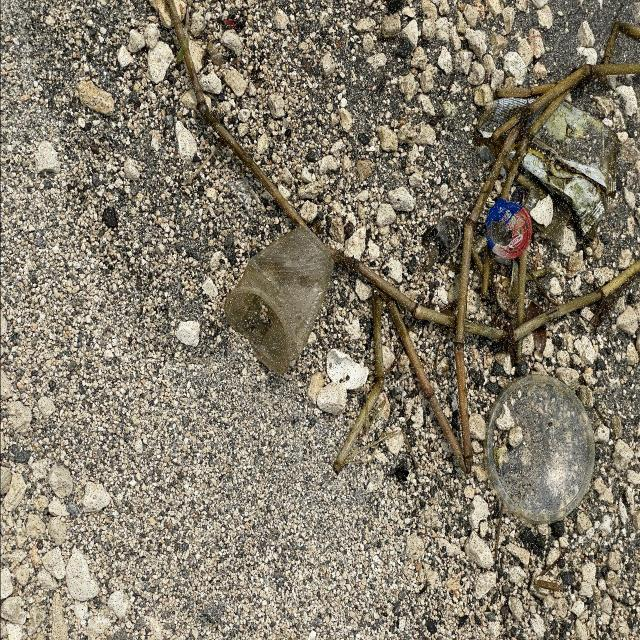plastic_waste: (224, 224, 336, 376), (485, 198, 534, 261)
